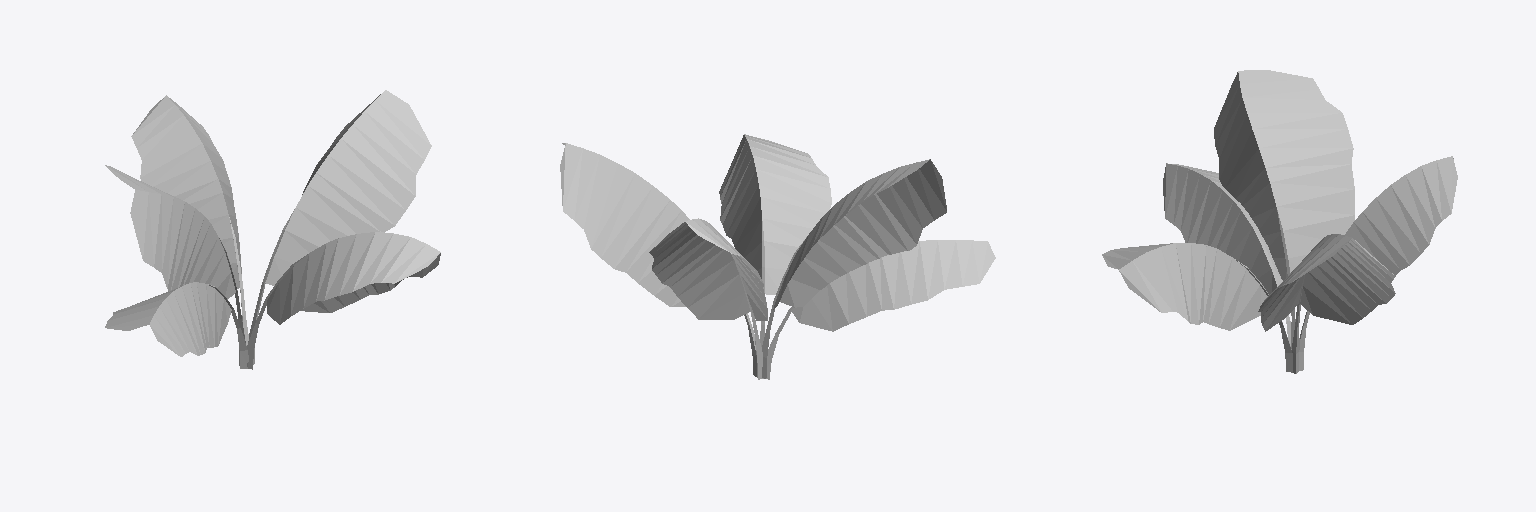
The model's file is banana plant 02_lod1.obj.
The picture shows the model from 3 angles: view 1: azimuth 30°, elevation 25°; view 2: azimuth 150°, elevation 25°; view 3: azimuth 270°, elevation 25°; orthographic projection.
Visible parts, largest first — view 1: tree; view 2: tree; view 3: tree.
Part boxes in pixels (left/top/right/bottom): tree: left=105, top=90, right=440, bottom=369; tree: left=560, top=134, right=995, bottom=379; tree: left=1102, top=70, right=1457, bottom=373.
Bounding box in the file's own units: 254 × 156 × 216.